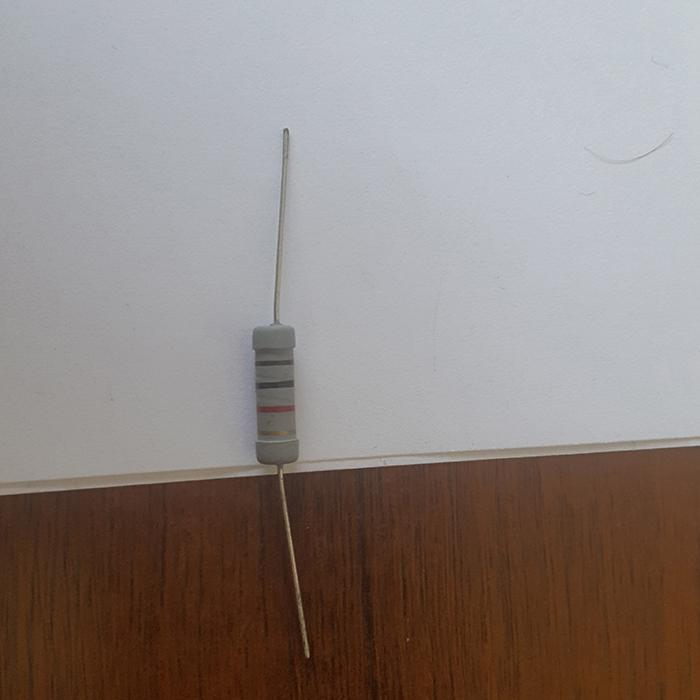resistor: (251, 322, 300, 464)
